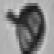not correct: (6, 2, 49, 54)
